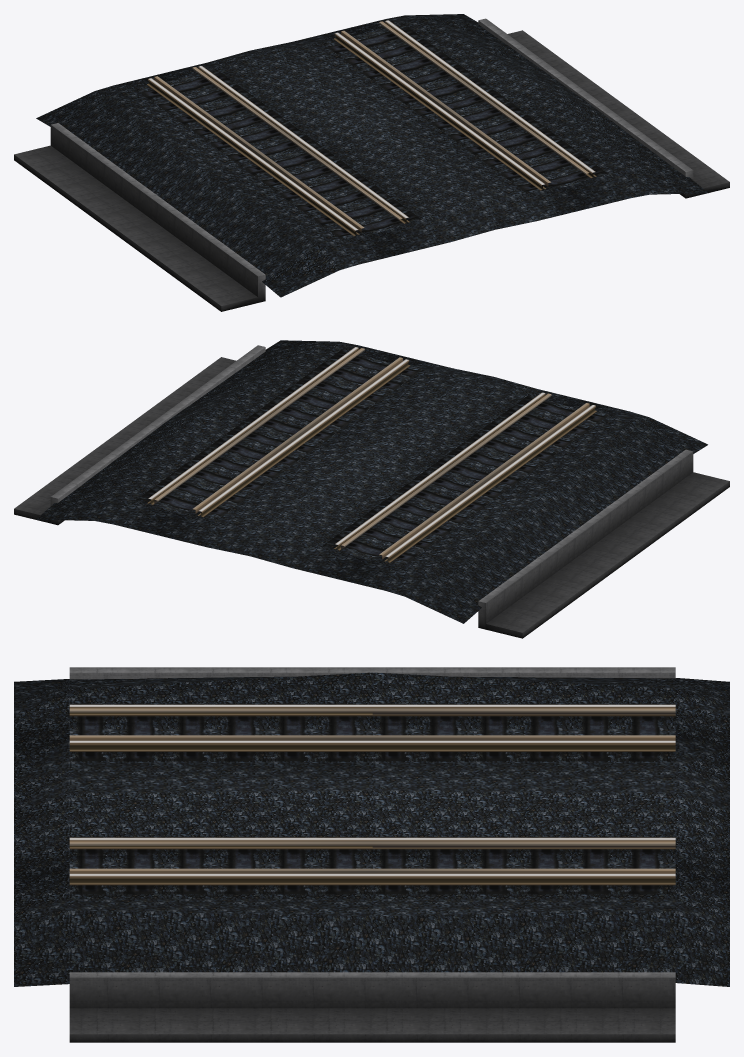
Rendered from SIN_2RAIL_25.glb.
3 renders of one model, top to bottom at view 1: azimuth 30°, elevation 25°; view 2: azimuth 150°, elevation 25°; view 3: azimuth 270°, elevation 25°, orthographic. The views are drawn at different scales.
Parts seen in each view (by area): view 1: Jari_All2, R000_RG_R2, R000_RG_L2; view 2: Jari_All2, R000_RG_R2, R000_RG_L2; view 3: Jari_All2, R000_RG_R2, R000_RG_L2.
Boxes of the visible parts, box(x1,y1,x2,y2) form: Jari_All2: box(14, 14, 729, 311); R000_RG_R2: box(154, 30, 550, 232); R000_RG_L2: box(192, 21, 589, 220); Jari_All2: box(14, 340, 729, 638); R000_RG_R2: box(192, 357, 589, 559); R000_RG_L2: box(154, 348, 551, 549); Jari_All2: box(14, 667, 729, 1042); R000_RG_R2: box(69, 708, 675, 847); R000_RG_L2: box(69, 735, 675, 873).
Bounding box in the file's own units: 35.42 × 3.26 × 29.53.
7 materials, 6 textured.
